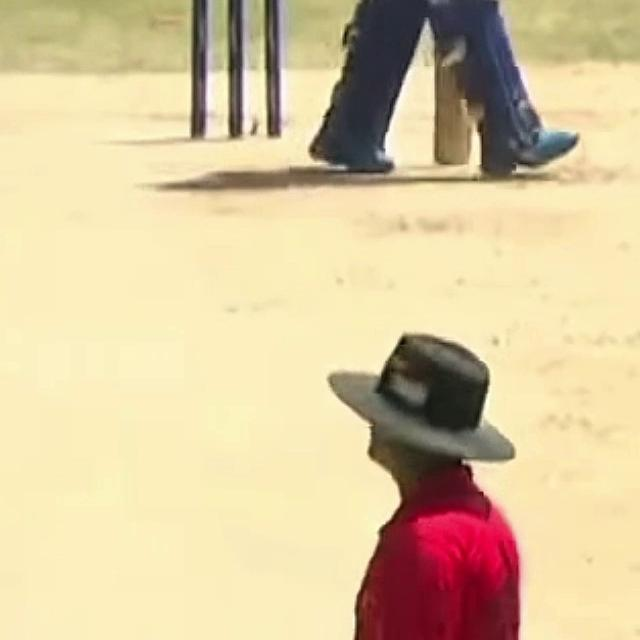umpire: (235, 304, 640, 640)
